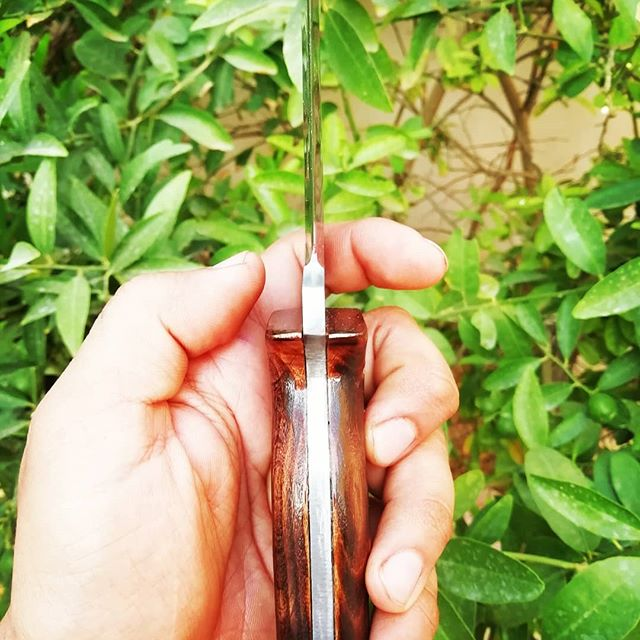knife: (266, 1, 373, 638)
